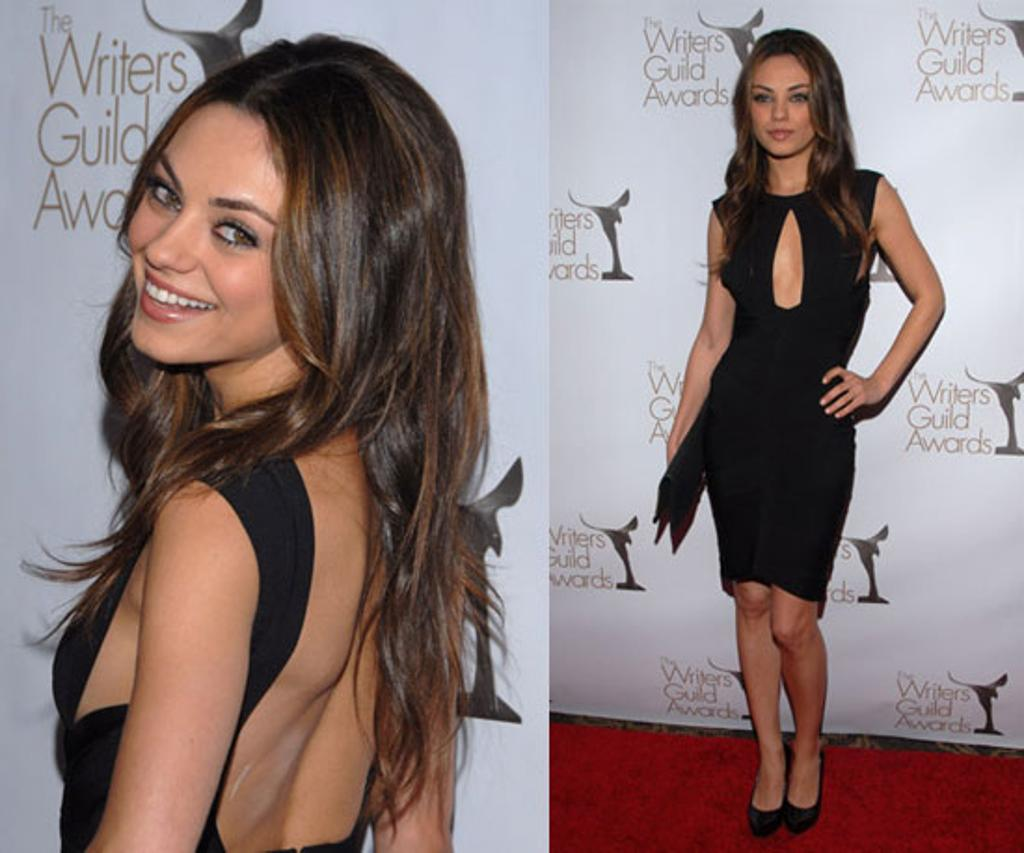face: (122, 108, 320, 360), (748, 54, 818, 158)
